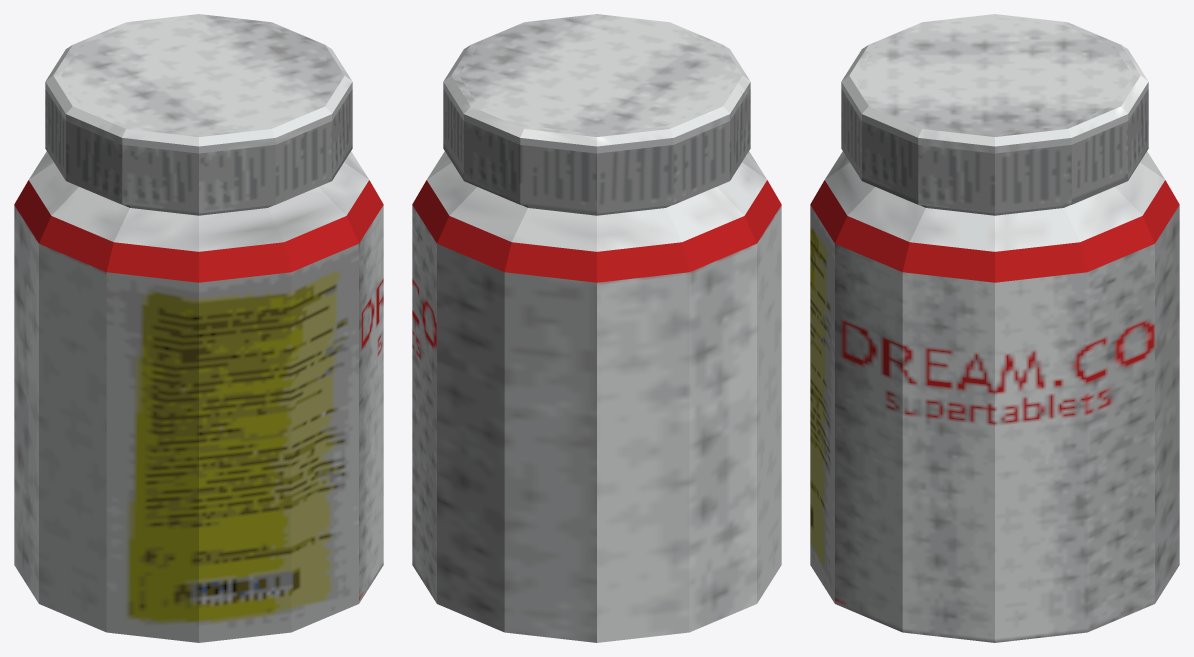
The model's file is Tablets.fbx.
3 renders of one model, left to right at view 1: azimuth 30°, elevation 25°; view 2: azimuth 150°, elevation 25°; view 3: azimuth 270°, elevation 25°, orthographic.
Visible parts, largest first — view 1: Circle; view 2: Circle; view 3: Circle.
Part boxes in pixels (left/top/right/bottom): Circle: left=14, top=14, right=383, bottom=642; Circle: left=412, top=14, right=781, bottom=642; Circle: left=810, top=14, right=1179, bottom=642.
Bounding box in the file's own units: 0.07 × 0.1043 × 0.07.
